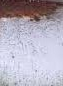Corrosion: (1, 1, 63, 22)
